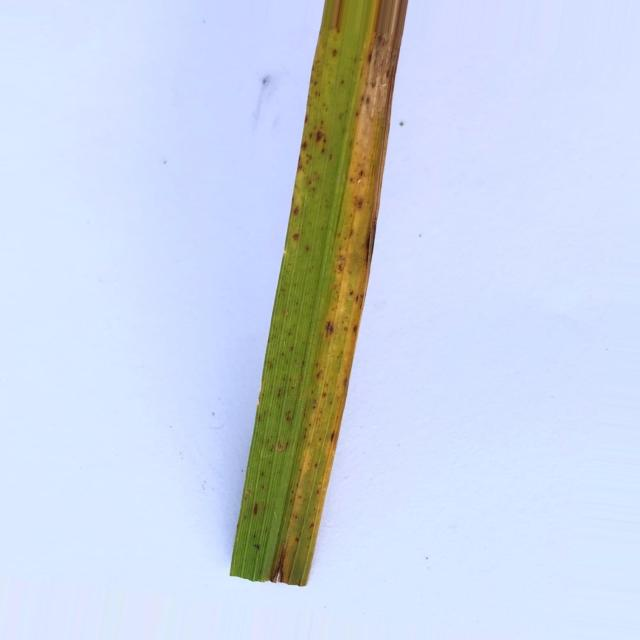Rice Tungro: (257, 0, 406, 585), (312, 0, 366, 81)
